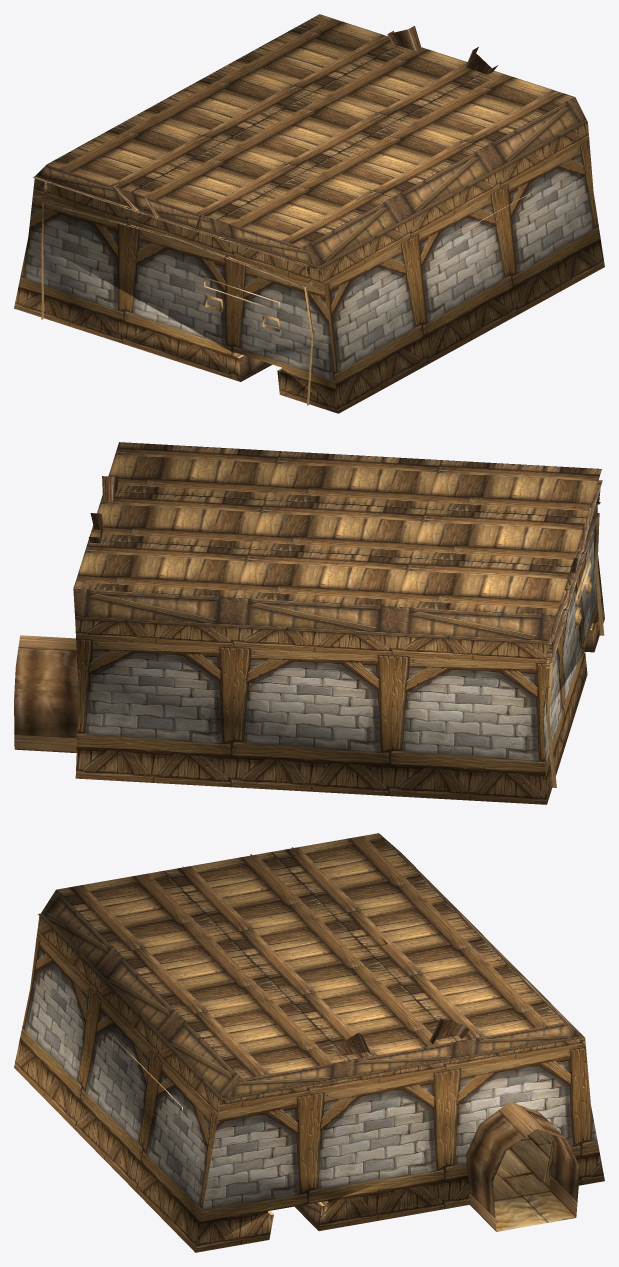
Rendered from stormwind_223.fbx.
3 renders of one model, top to bottom at view 1: azimuth 30°, elevation 25°; view 2: azimuth 150°, elevation 25°; view 3: azimuth 270°, elevation 25°, orthographic. The views are drawn at different scales.
Parts seen in each view (by area): view 1: stormwind_223_87, stormwind_223_55, stormwind_223_56, stormwind_223_53, stormwind_223_54; view 2: stormwind_223_87, stormwind_223_55, stormwind_223_56, stormwind_223_49, stormwind_223_53; view 3: stormwind_223_87, stormwind_223_55, stormwind_223_56, stormwind_223_49, stormwind_223_53, stormwind_223_51.
Boxes of the visible parts, bbox=[...] form: stormwind_223_87: bbox=[14, 122, 604, 413]; stormwind_223_55: bbox=[47, 14, 574, 247]; stormwind_223_56: bbox=[35, 97, 587, 381]; stormwind_223_53: bbox=[32, 26, 542, 405]; stormwind_223_54: bbox=[204, 185, 545, 371]; stormwind_223_87: bbox=[75, 504, 604, 804]; stormwind_223_55: bbox=[73, 442, 601, 615]; stormwind_223_56: bbox=[73, 589, 594, 652]; stormwind_223_49: bbox=[14, 635, 78, 752]; stormwind_223_53: bbox=[88, 476, 604, 787]; stormwind_223_87: bbox=[14, 916, 604, 1252]; stormwind_223_55: bbox=[56, 833, 564, 1079]; stormwind_223_56: bbox=[39, 835, 584, 1230]; stormwind_223_49: bbox=[466, 1101, 579, 1231]; stormwind_223_53: bbox=[38, 847, 575, 1231]; stormwind_223_51: bbox=[493, 1129, 552, 1200].
Size of the model in its own units: 20.51 by 7.09 by 19.95.
